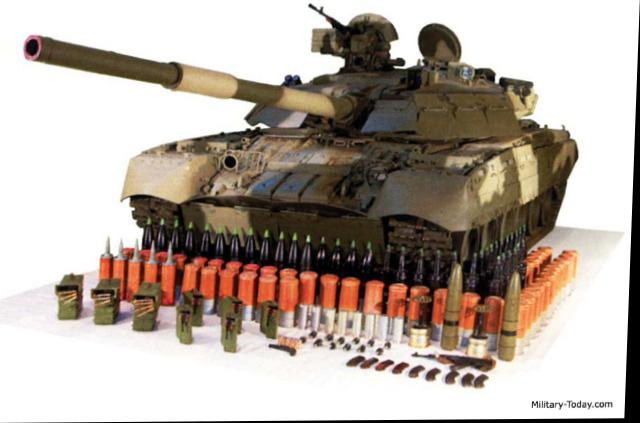tank: (121, 14, 579, 249)
